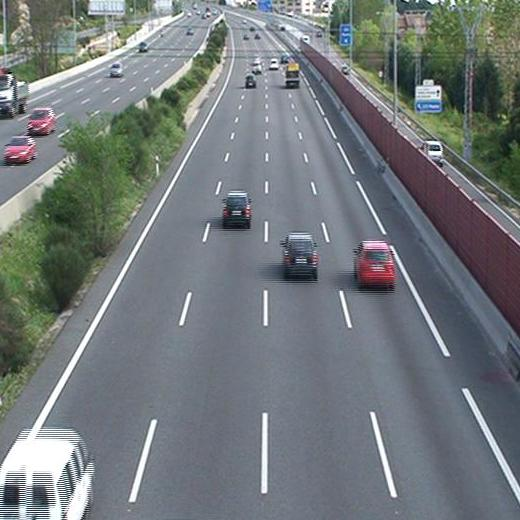car: (350, 241, 396, 290), (280, 232, 317, 276), (220, 192, 252, 225), (244, 76, 256, 91), (250, 61, 263, 74), (267, 58, 281, 70)
small-truck: (285, 61, 300, 88)
